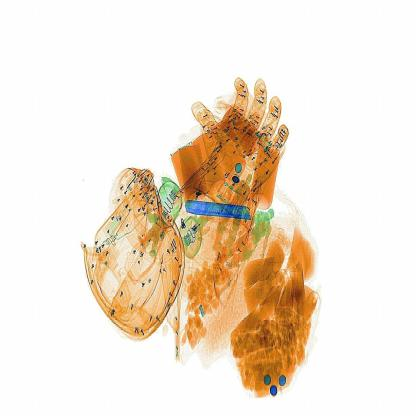pliers: (181, 194, 255, 234)
